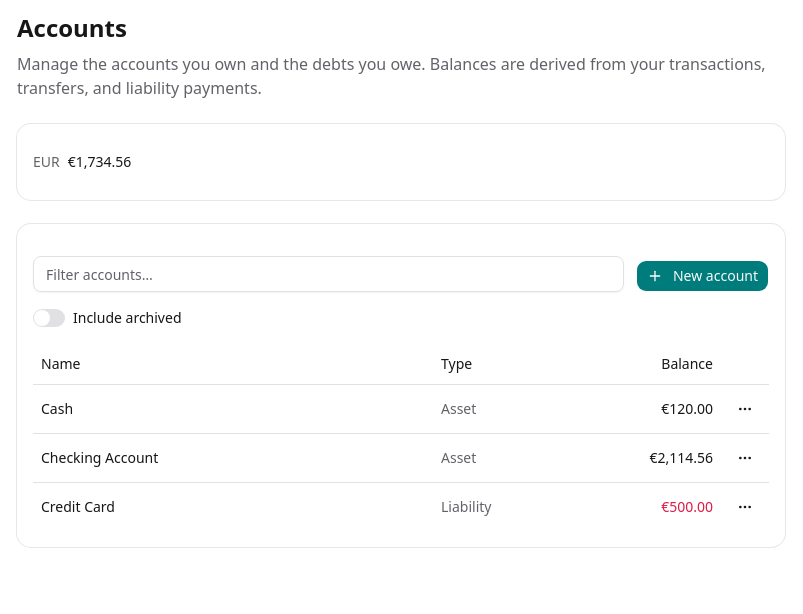
it: AccountsLayout › Include archived toggle adds archived rows
The width and height of the screenshot is (803, 614).
Expected: the text "Cash" is shown, x1=41 y1=398 x2=73 y2=418
Click the switch named "include archived": (49, 318) x1=33 y1=309 x2=65 y2=327
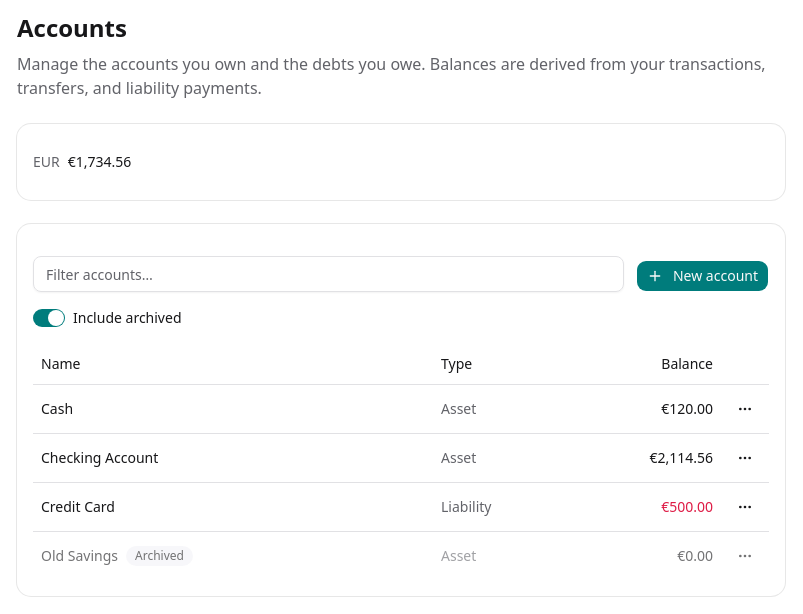
Expected: the text "Old Savings" is shown, x1=41 y1=546 x2=118 y2=566
